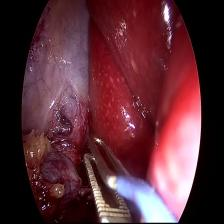Bipolar: (82, 132, 182, 224)
